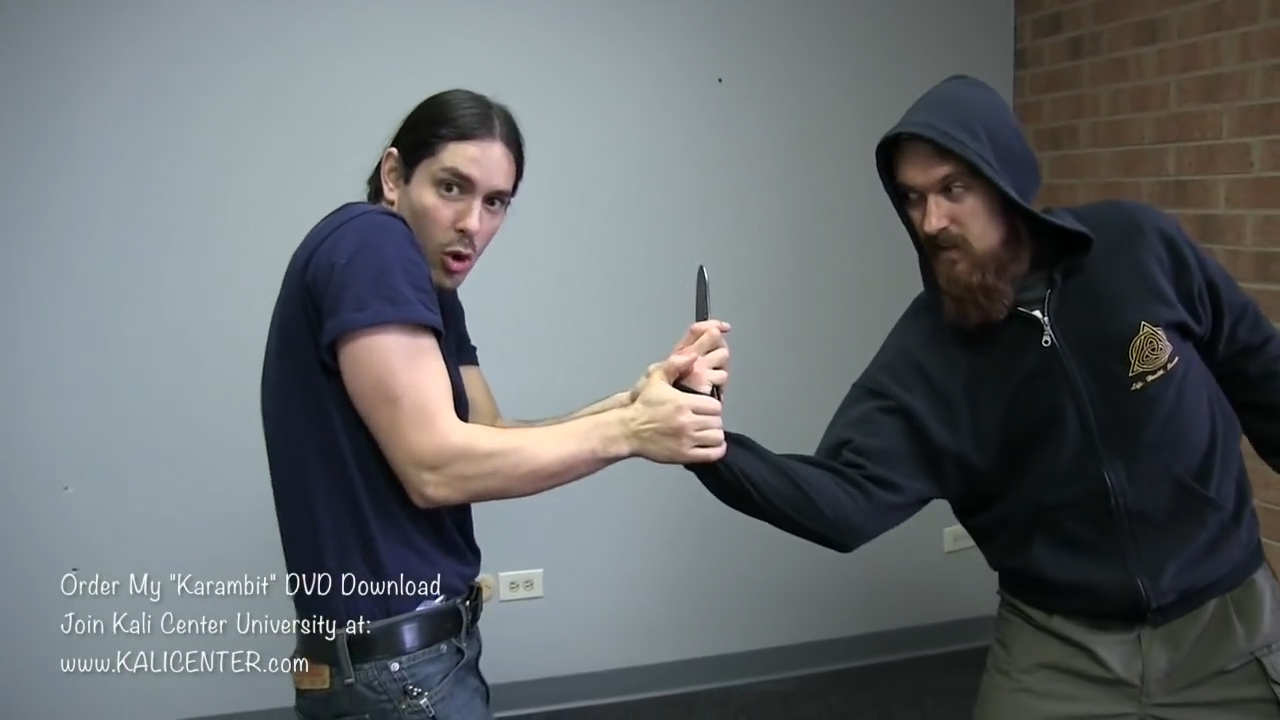knife: (676, 258, 740, 382)
